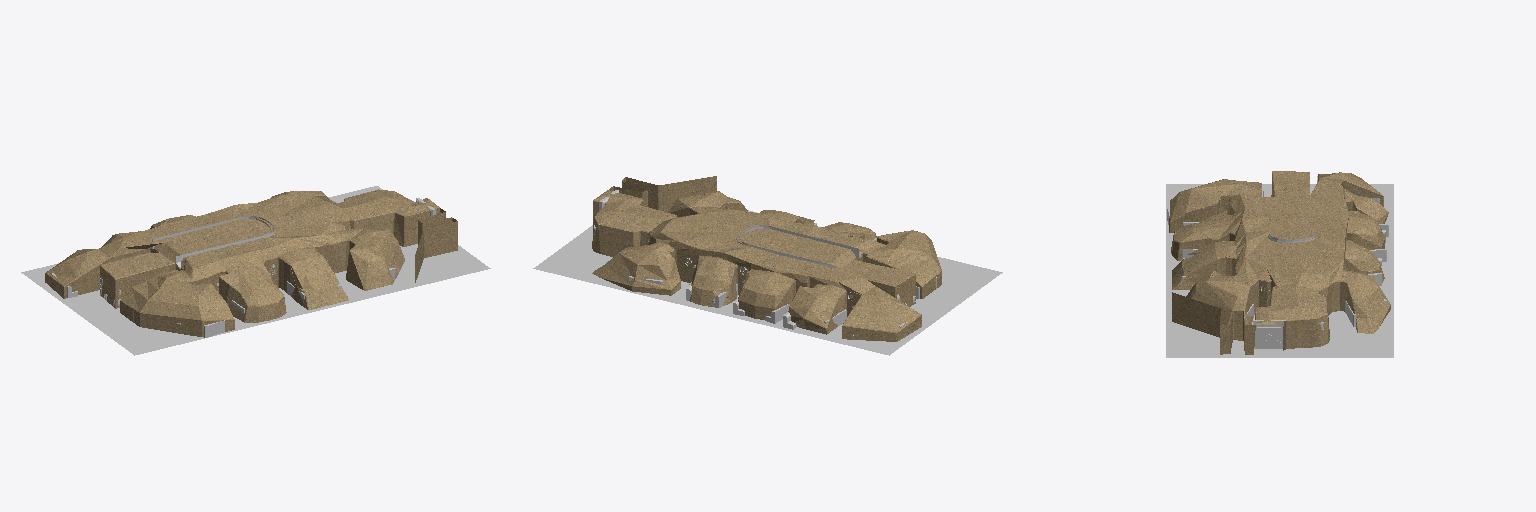
3 renders of one model, left to right at view 1: azimuth 30°, elevation 25°; view 2: azimuth 150°, elevation 25°; view 3: azimuth 270°, elevation 25°, orthographic.
Parts seen in each view (by area): view 1: Paredes_Plane.001, Chao_Plane, Cube.002_Cube.022; view 2: Paredes_Plane.001, Chao_Plane, Cube.002_Cube.022; view 3: Paredes_Plane.001, Chao_Plane, Plane_Plane.002.
Boxes of the visible parts, box(x1,y1,x2,y2) form: Paredes_Plane.001: box(45, 189, 457, 336); Chao_Plane: box(21, 186, 490, 355); Cube.002_Cube.022: box(150, 216, 274, 268); Paredes_Plane.001: box(592, 176, 941, 341); Chao_Plane: box(533, 210, 1002, 355); Cube.002_Cube.022: box(736, 225, 861, 267); Paredes_Plane.001: box(1169, 171, 1390, 354); Chao_Plane: box(1166, 184, 1393, 357); Plane_Plane.002: box(1253, 320, 1285, 349).
Bounding box in the file's own units: 37.59 × 4.97 × 20.77.
Materials: 17 (1 with a texture image).